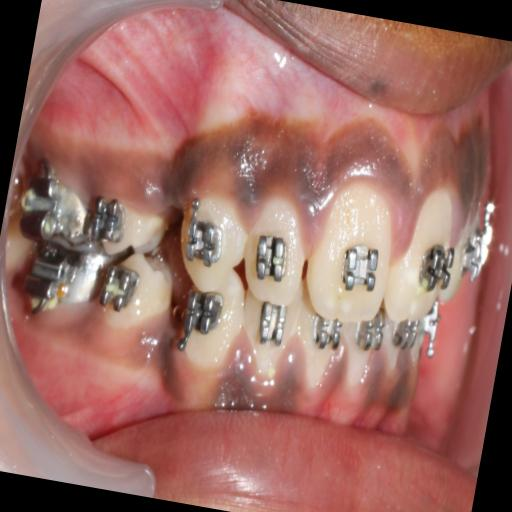correct_brace: (78, 166, 176, 272), (334, 231, 384, 302), (248, 223, 297, 288), (414, 232, 458, 300), (179, 216, 227, 271)
incorrect_brace: (233, 188, 318, 314), (86, 190, 133, 247)
